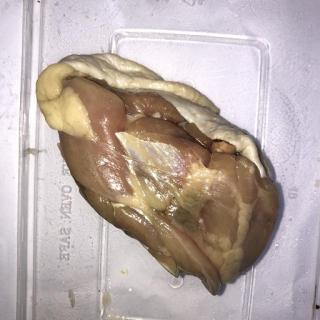Ayam: (36, 53, 282, 297)
